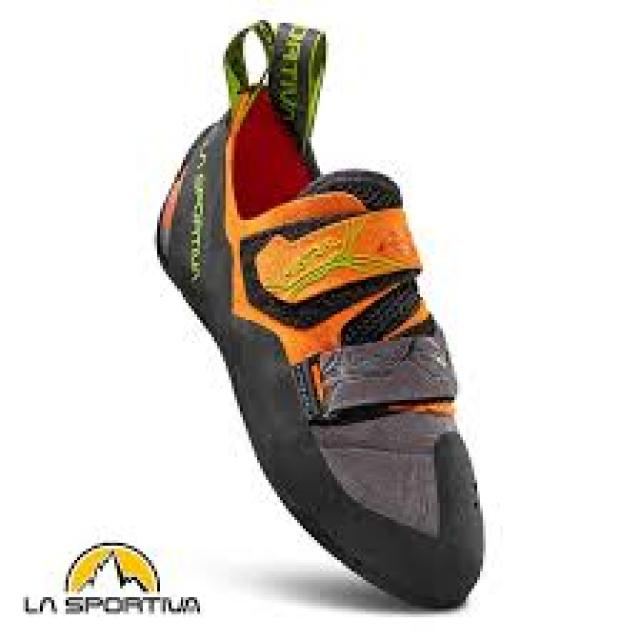climbing-shoes: (152, 21, 488, 610)
